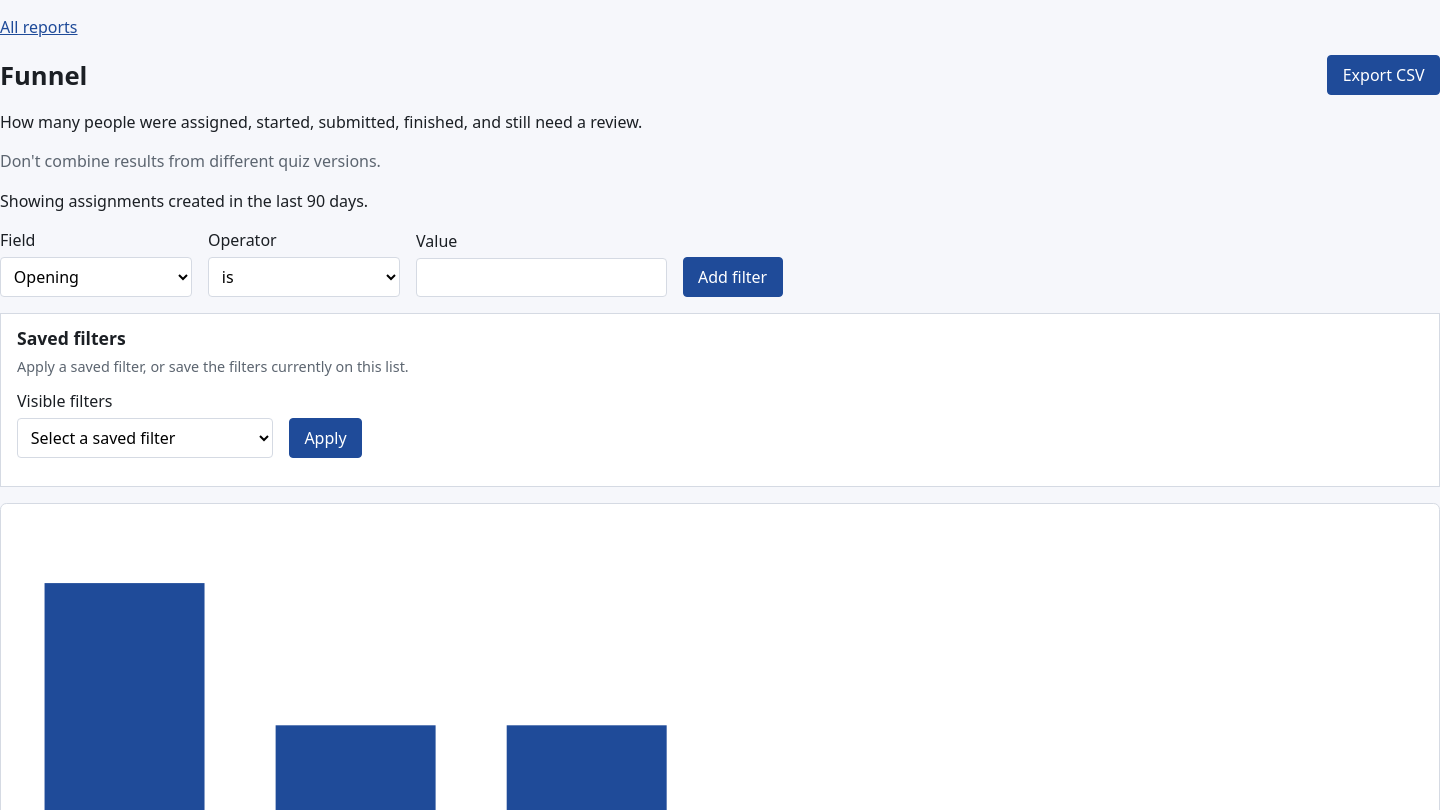
it: ReportView › sends the added chip as report criteria
In the field labelled "Value": (541, 277) [416, 258, 667, 297], type "4b8d2e21-7c3e-4d0b-8f22-1a9d3c7b2001"
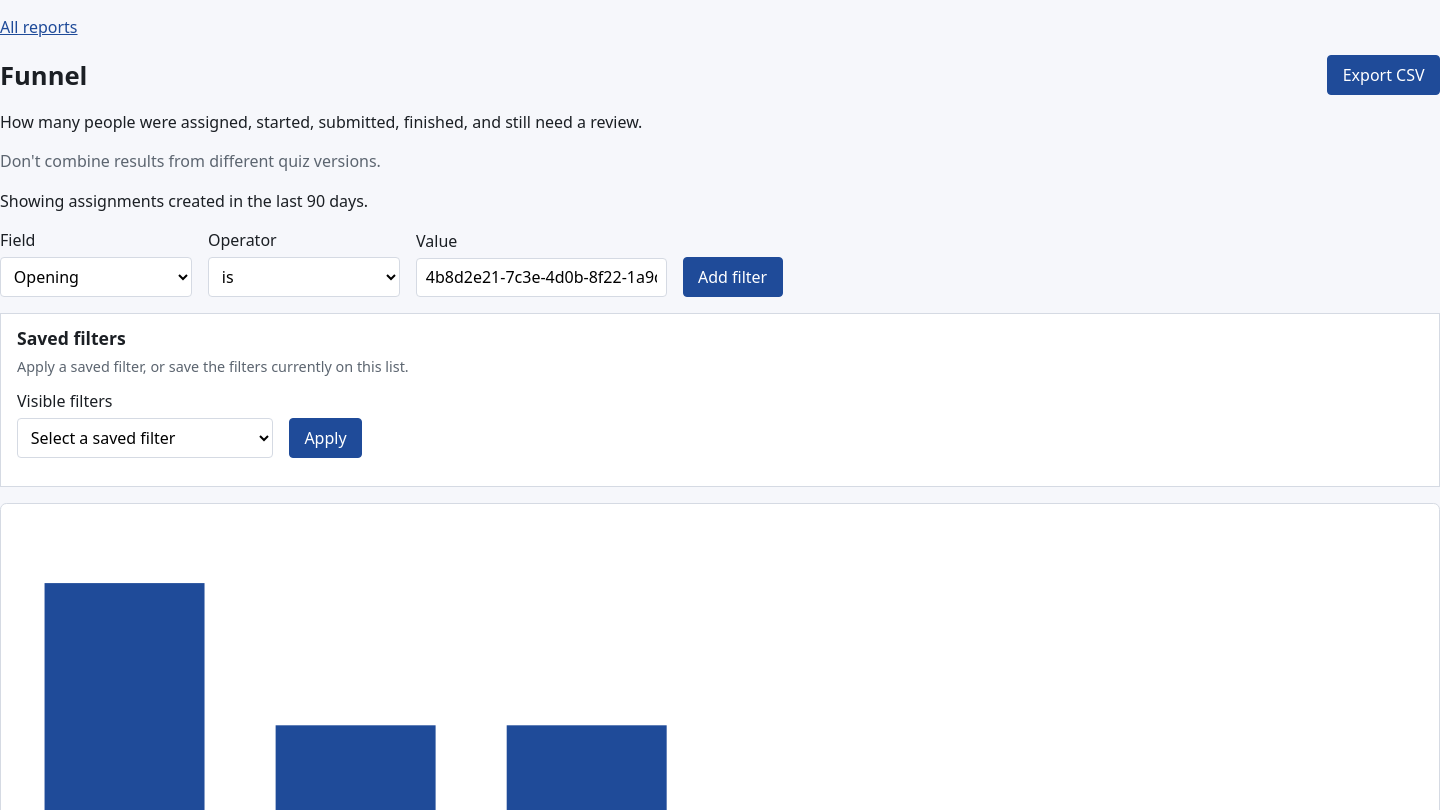
Click the button with test id "add-filter": (733, 277) [683, 257, 783, 297]
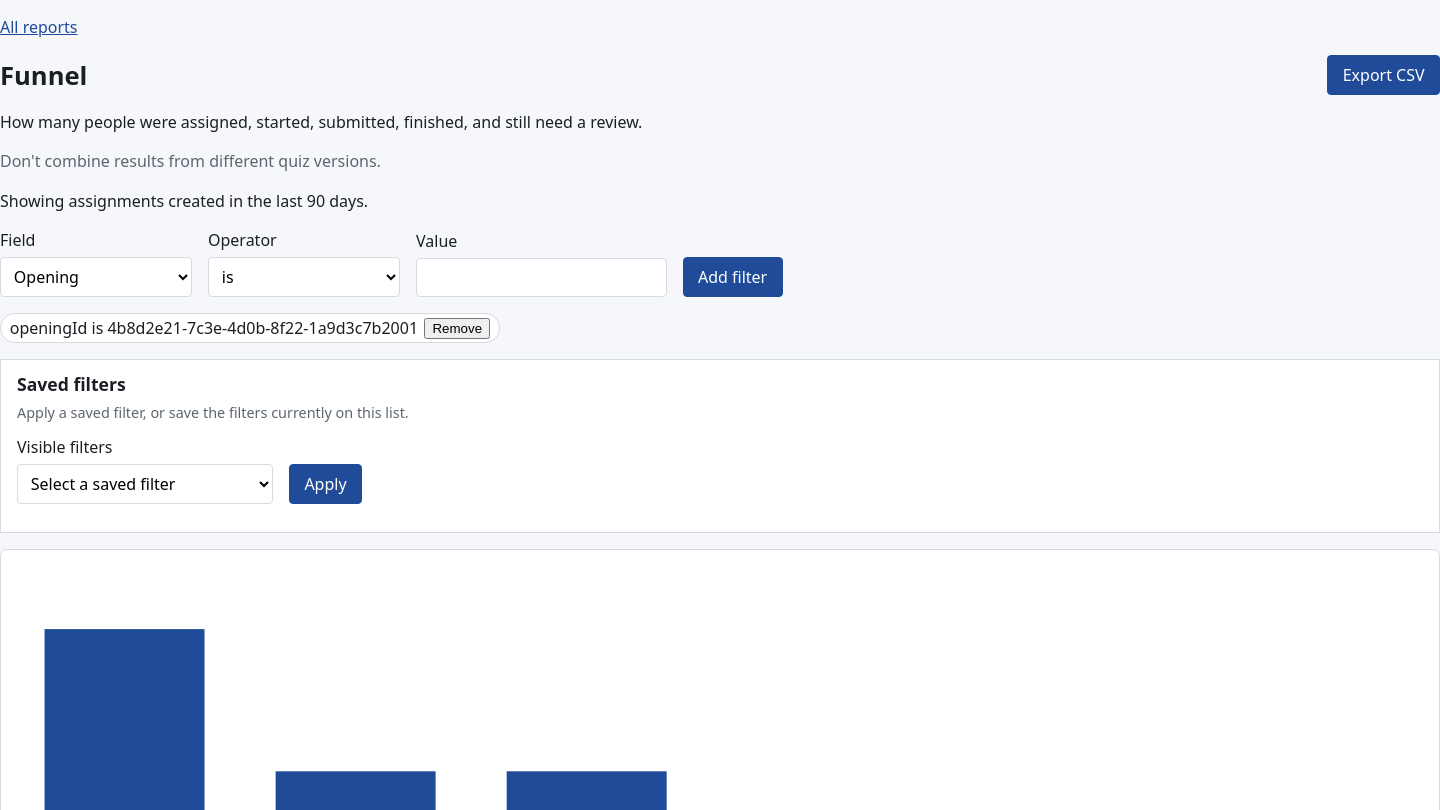
expect the text "openingId is 4b8d2e21-7c3e-4d0b-8f22-1a9d3c7b2001" is shown: met, box [10, 316, 418, 340]
